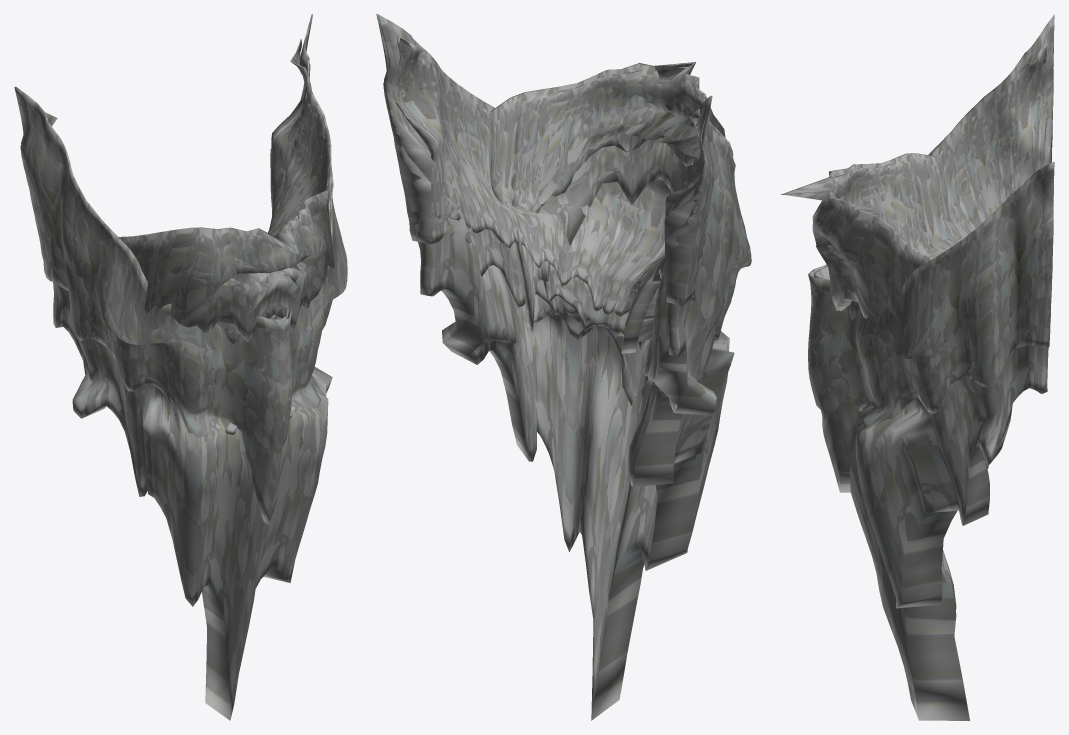
File: facial-hair.beards.default.gltf
The picture shows the model from 3 angles, left to right: view 1: azimuth 30°, elevation 25°; view 2: azimuth 150°, elevation 25°; view 3: azimuth 270°, elevation 25°; orthographic projection. The views are drawn at different scales.
Visible parts, largest first — view 1: beard.long, beard.full, beard.walrus, beard.short, beard.moustache; view 2: beard.long, beard.short, beard.walrus, beard.full, beard.moustache, beard.goatee; view 3: beard.long, beard.full, beard.walrus, beard.short, beard.moustache.
Boxes of the visible parts, box(x1,y1,x2,y2) form: beard.long: box(15, 14, 332, 720); beard.full: box(14, 14, 347, 524); beard.walrus: box(119, 186, 334, 341); beard.short: box(45, 39, 328, 343); beard.moustache: box(138, 205, 326, 286); beard.long: box(377, 14, 734, 720); beard.short: box(394, 35, 702, 316); beard.walrus: box(489, 62, 731, 353); beard.full: box(376, 14, 751, 407); beard.moustache: box(511, 66, 703, 268); beard.goatee: box(543, 181, 657, 349); beard.long: box(813, 15, 1054, 720); beard.full: box(808, 14, 1054, 492); beard.walrus: box(781, 153, 962, 321); beard.short: box(848, 40, 1047, 320); beard.moustache: box(796, 160, 933, 278).
Size of the model in its own units: 0.1723 by 0.3428 by 0.1348.
Materials: 1 (1 with a texture image).
